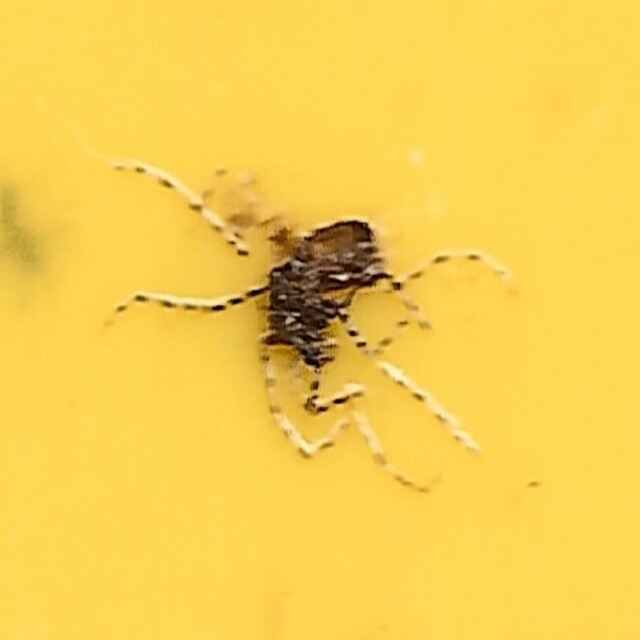Nematocera: (116, 153, 524, 487)
